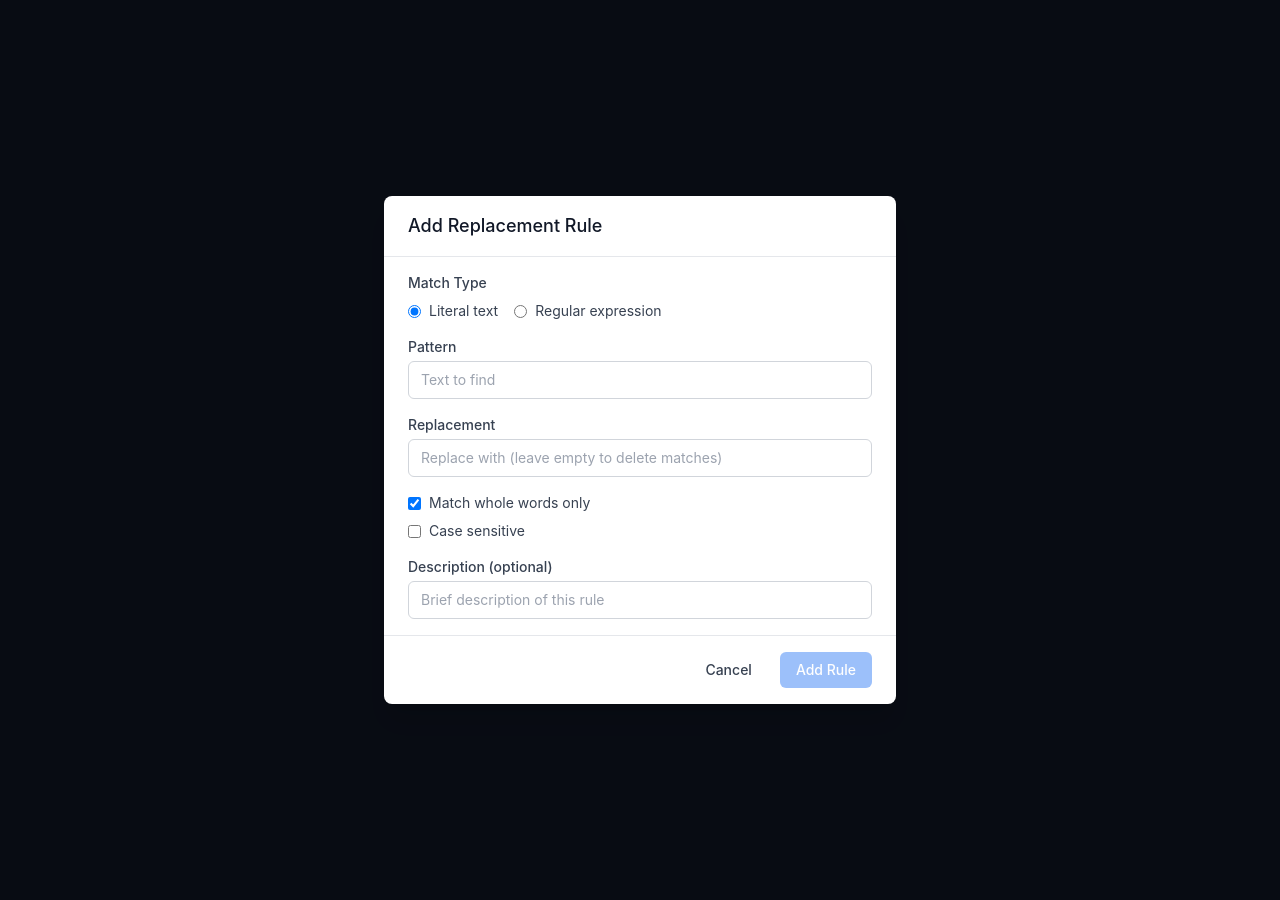
it: ReplacementEditor › shows word boundary option only for literal
The width and height of the screenshot is (1280, 900).
Expected: the text "Match whole words only" is shown, x1=429 y1=493 x2=590 y2=513
Switch to regex mode
Click the radio button labelled "Regular expression" at (521, 311), box x1=514 y1=304 x2=527 y2=318
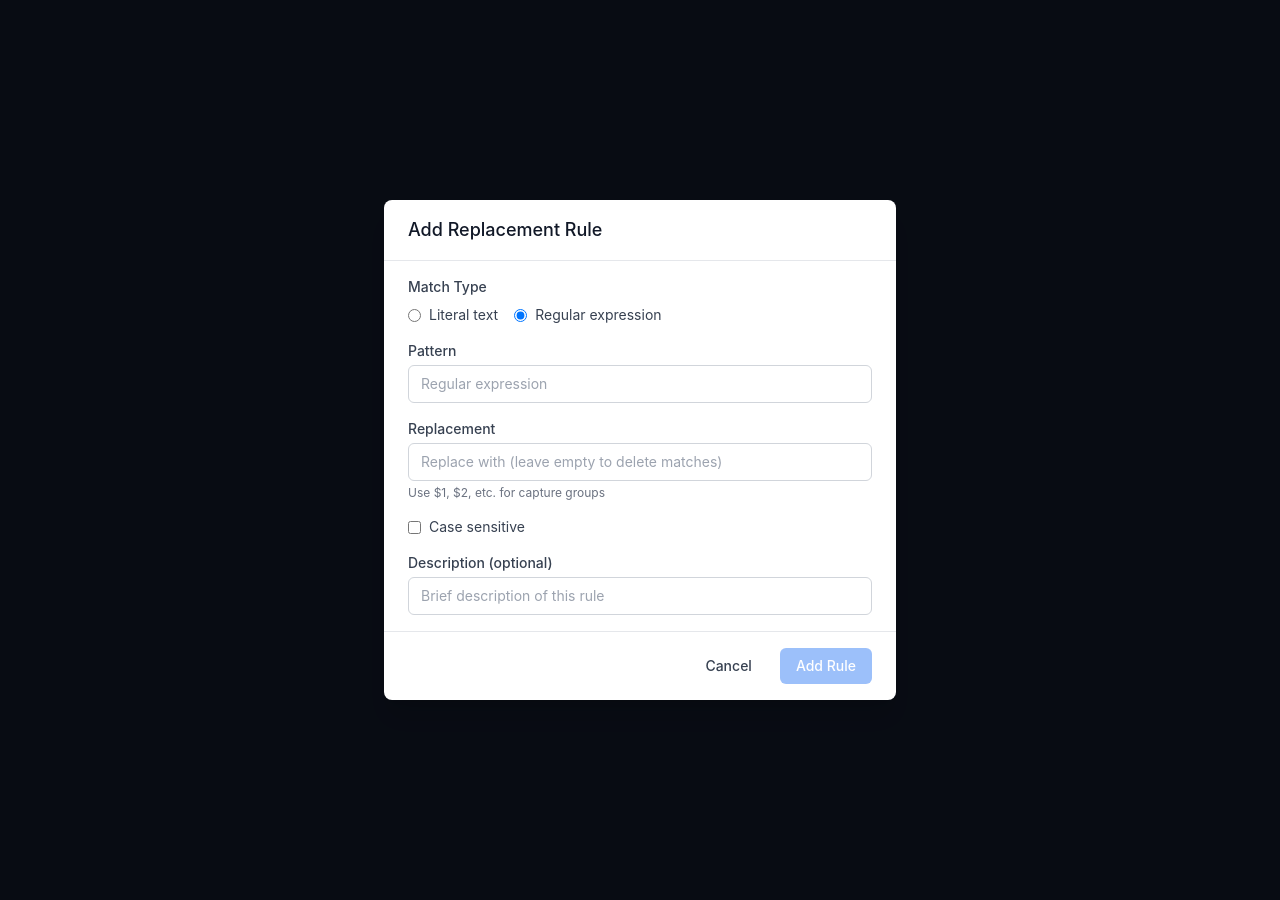
Expected: the text "Match whole words only" is gone
